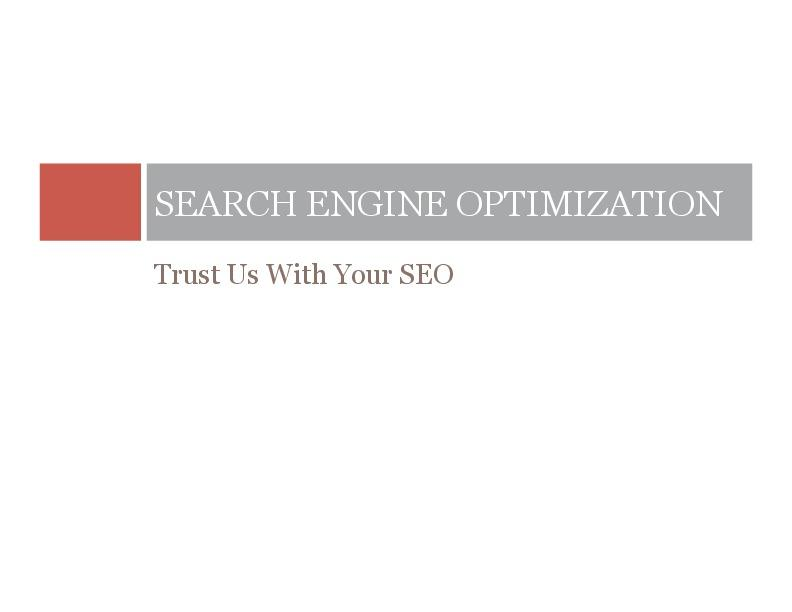subtitle: (149, 252, 463, 295)
title: (154, 182, 731, 228)
